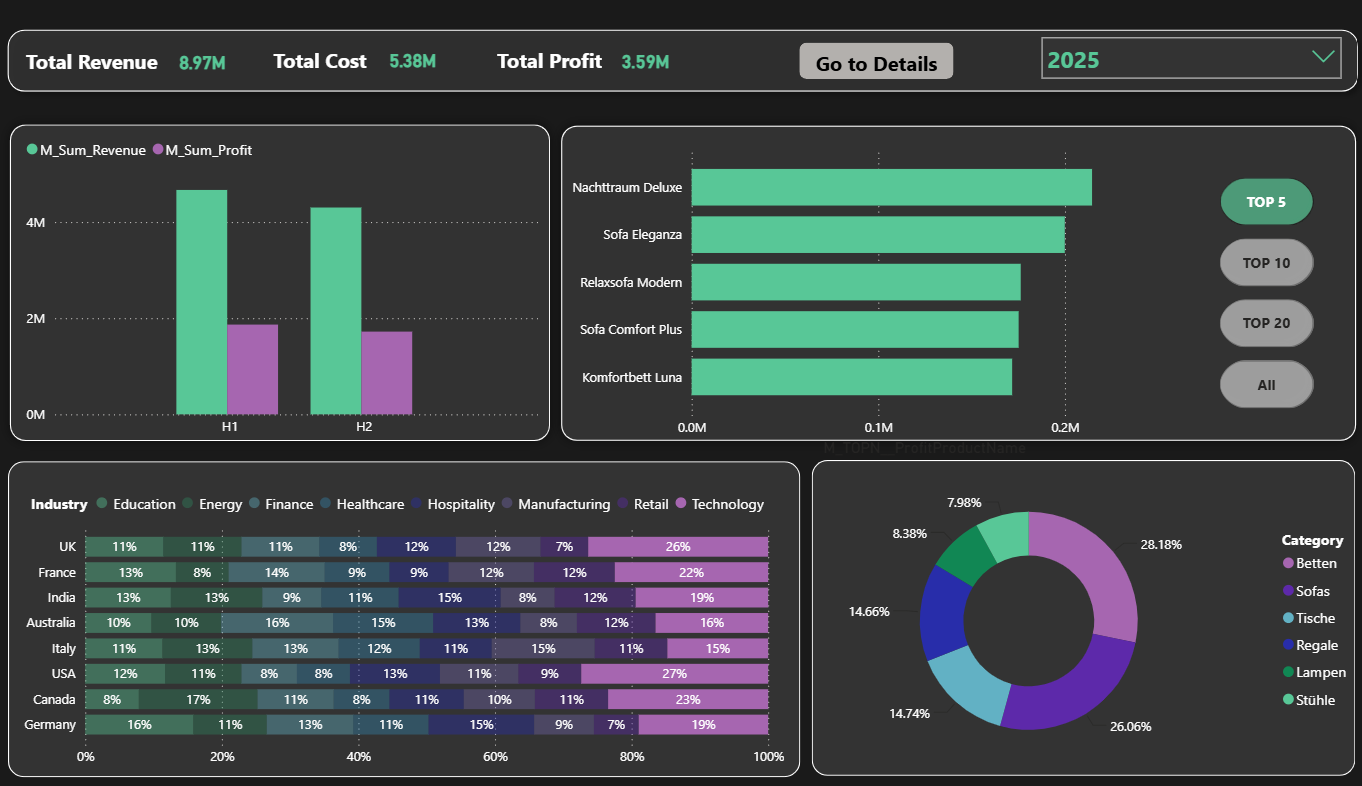

This screenshot's page, from the dashboard's own definition file:
{"tool":"powerbi","page":{"name":"Header","canvas":[1280,720],"ordinal":0},"visuals":[{"type":"shape","box":[9.1,411.5,739.9,295],"z":0},{"type":"shape","box":[1.4,87.1,524.3,315.7],"z":1000},{"type":"shape","box":[516.3,88.6,762.3,314.3],"z":2000},{"type":"shape","box":[759.5,411.4,507.6,294.9],"z":3000},{"type":"shape","box":[0,0,1279.8,75.9],"z":4000},{"type":"card","fields":{"Values":["ListOfMeasures.M_Sum_Cost"]},"box":[339.9,19.2,95,40.6],"z":5000},{"type":"card","fields":{"Values":["ListOfMeasures.M_Sum_Profit"]},"box":[546,16.5,117.2,47.2],"z":6000},{"type":"card","fields":{"Values":["ListOfMeasures.M_Sum_Revenue"]},"box":[138.2,22,106.7,36.7],"z":7000},{"type":"textbox","box":[252.7,20.1,122.5,40],"z":8000},{"type":"textbox","box":[21.5,20.5,140.5,37.2],"z":9000},{"type":"textbox","box":[461,20.1,122.5,40],"z":10000},{"type":"clusteredColumnChart","fields":{"Y":["ListOfMeasures.M_Sum_Revenue","ListOfMeasures.M_Sum_Profit"],"Category":["DimDate.HalfYearName Hierarchy.HalfYearName","DimDate.HalfYearName Hierarchy.QuarterName","DimDate.HalfYearName Hierarchy.MonthName"]},"box":[21.4,99.8,489,297.8],"z":11000},{"type":"clusteredBarChart","fields":{"Category":["DimProduct.ProductName"],"Y":["ListOfMeasures.M_TOPN__ProfitProductName"]},"box":[522.8,108.9,579.8,303.8],"z":12000},{"type":"hundredPercentStackedBarChart","fields":{"Category":["DimCustomers.Country"],"Y":["ListOfMeasures.M_Sum_Revenue"],"Series":["DimCustomers.Industry"]},"box":[12.1,431.2,727.8,275.4],"z":13000},{"type":"donutChart","fields":{"Category":["DimProduct.Category"],"Y":["ListOfMeasures.M_Sum_Profit"]},"box":[721.2,422,558.8,277.5],"z":14000},{"type":"slicer","fields":{"Values":["DimDate.Year_Date"]},"box":[963.8,6.3,300,55.7],"z":15000},{"type":"advancedSlicerVisual","fields":{"Values":["TopTBL.Value"]},"box":[1145.6,100,100,220.3],"z":16000},{"type":"actionButton","box":[748.1,21.5,144.3,34.2],"z":17000}]}

Visuals, with their boxes in screenshot pixels (x1, y1, x2, y2), scaled from the page's 1280x720 canvas onto the 1362x786 screenshot:
shape: bbox(10, 449, 797, 771)
shape: bbox(1, 95, 559, 440)
shape: bbox(549, 97, 1361, 440)
shape: bbox(808, 449, 1348, 771)
shape: bbox(0, 0, 1361, 83)
card - ListOfMeasures.M_Sum_Cost: bbox(362, 21, 463, 65)
card - ListOfMeasures.M_Sum_Profit: bbox(581, 18, 706, 70)
card - ListOfMeasures.M_Sum_Revenue: bbox(147, 24, 261, 64)
textbox: bbox(269, 22, 399, 66)
textbox: bbox(23, 22, 172, 63)
textbox: bbox(491, 22, 621, 66)
clusteredColumnChart - ListOfMeasures.M_Sum_Revenue x ListOfMeasures.M_Sum_Profit: bbox(23, 109, 543, 434)
clusteredBarChart - DimProduct.ProductName x ListOfMeasures.M_TOPN__ProfitProductName: bbox(556, 119, 1173, 451)
hundredPercentStackedBarChart - DimCustomers.Country x ListOfMeasures.M_Sum_Revenue: bbox(13, 471, 787, 771)
donutChart - DimProduct.Category x ListOfMeasures.M_Sum_Profit: bbox(767, 461, 1361, 764)
slicer - DimDate.Year_Date: bbox(1026, 7, 1345, 68)
advancedSlicerVisual - TopTBL.Value: bbox(1219, 109, 1325, 350)
actionButton: bbox(796, 23, 950, 61)
